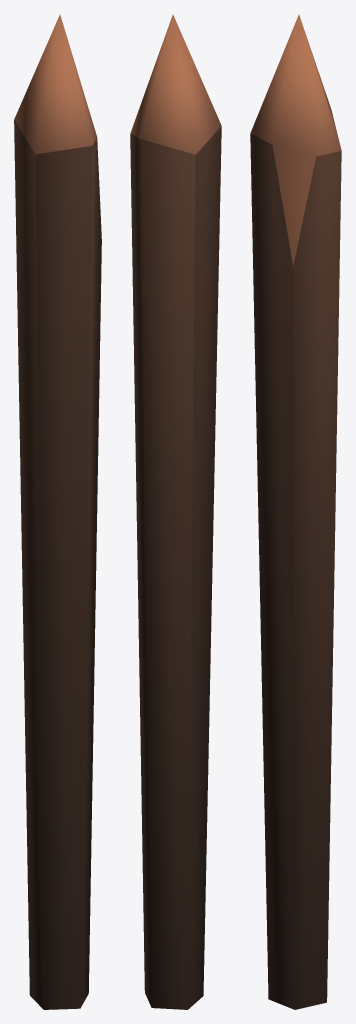
File: Wooden_Spike_1A.fbx
3 views of the same model, side by side, from view 1: azimuth 90°, elevation 25°; view 2: azimuth 150°, elevation 25°; view 3: azimuth 330°, elevation 25° (orthographic).
Visible parts, largest first — view 1: Wooden_Spike_1A; view 2: Wooden_Spike_1A; view 3: Wooden_Spike_1A.
Boxes of the visible parts, bbox=[...] form: Wooden_Spike_1A: bbox=[14, 14, 101, 1009]; Wooden_Spike_1A: bbox=[130, 14, 221, 1009]; Wooden_Spike_1A: bbox=[250, 14, 341, 1009].
Size of the model in its own units: 0.2268 by 2.82 by 0.2276.
